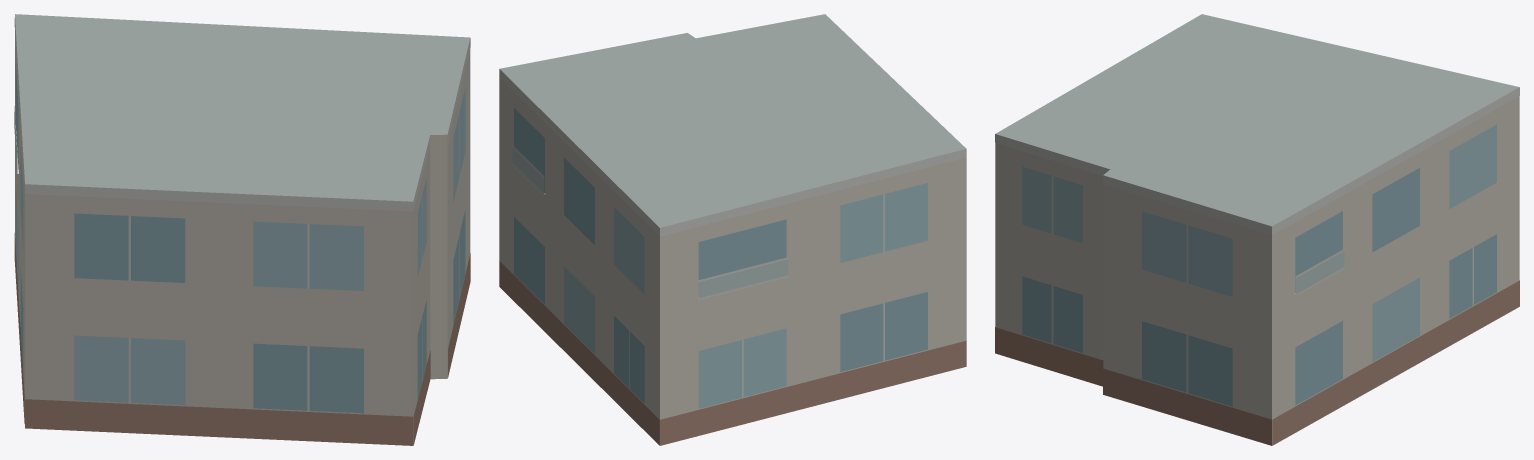
The model's file is survey-upis-32673575.glb.
The picture shows the model from 3 angles, left to right: view 1: azimuth 30°, elevation 25°; view 2: azimuth 150°, elevation 25°; view 3: azimuth 270°, elevation 25°; orthographic projection. The views are drawn at different scales.
Visible parts, largest first — view 1: survey-upis-32673575.tmp; view 2: survey-upis-32673575.tmp; view 3: survey-upis-32673575.tmp.
Part boxes in pixels (left/top/right/bottom): survey-upis-32673575.tmp: left=14, top=14, right=470, bottom=445; survey-upis-32673575.tmp: left=499, top=14, right=966, bottom=445; survey-upis-32673575.tmp: left=995, top=14, right=1519, bottom=445.
Size of the model in its own units: 12.67 by 6.1 by 13.23.
